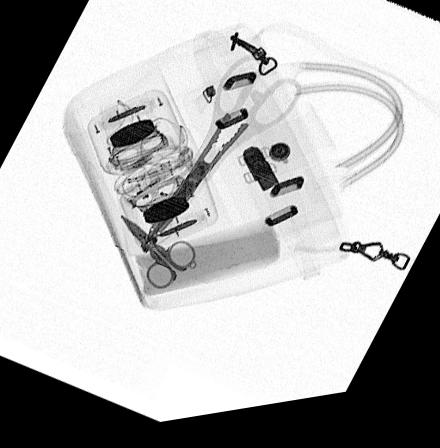Scissors: (146, 61, 301, 248), (120, 218, 196, 295)
